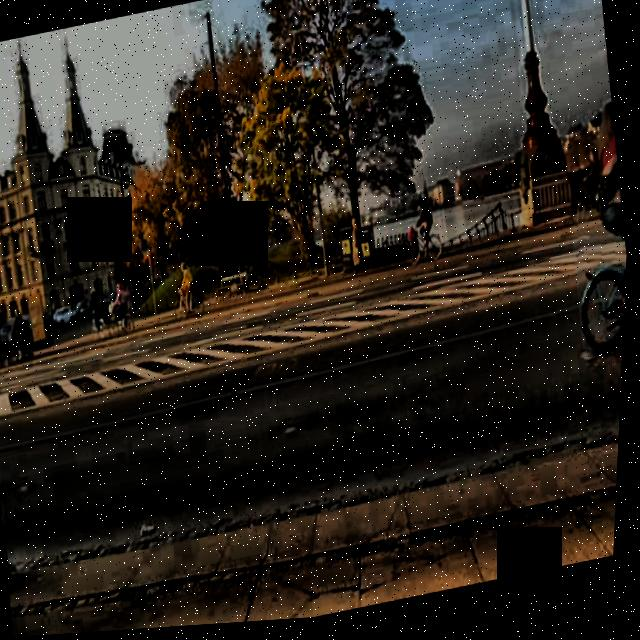bicycle: (566, 205, 632, 369)
